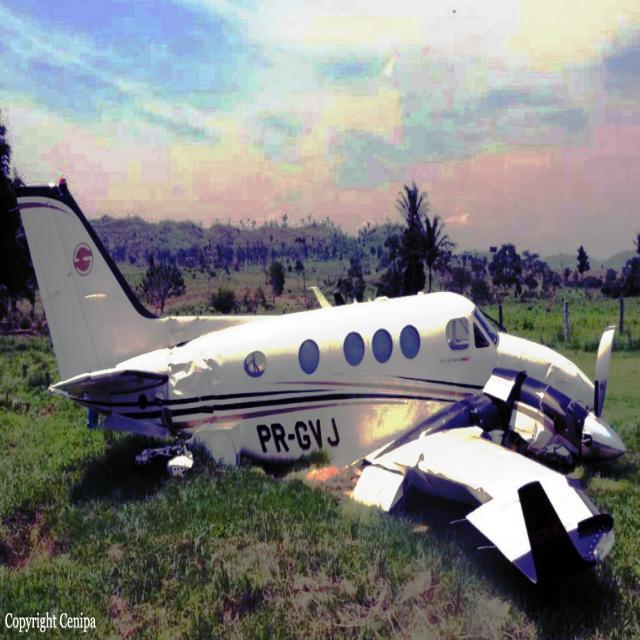dent: (165, 348, 228, 406)
